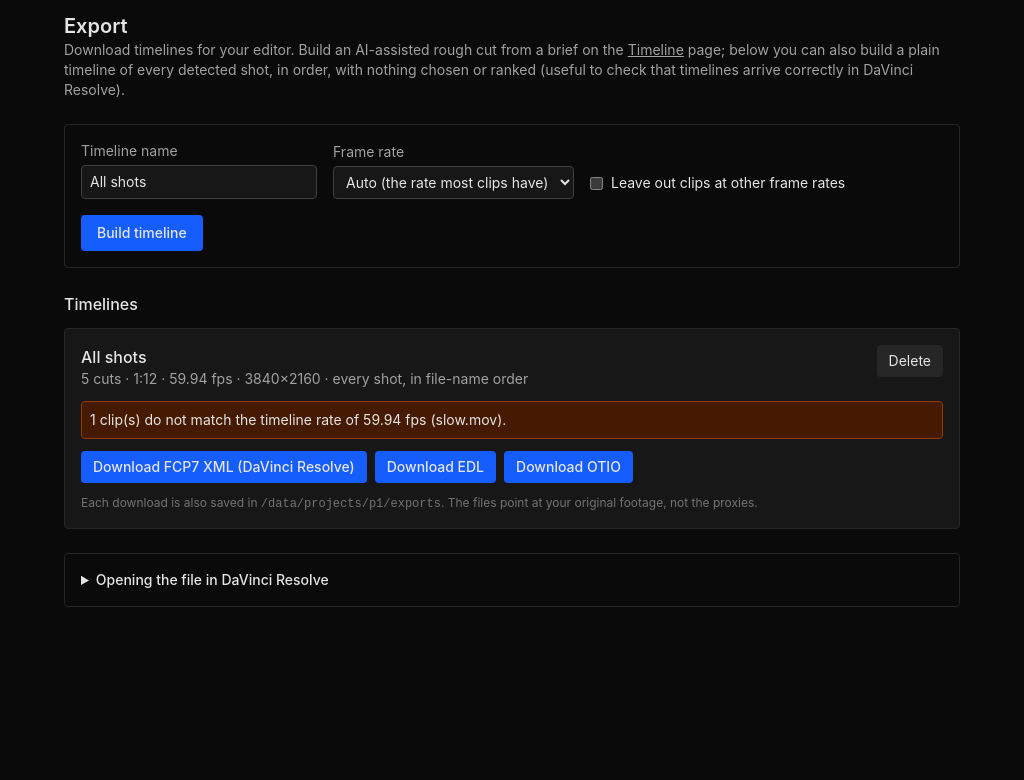
downloads an export as a file, and shows why when the backend refuses
Click the button "Download FCP7 XML (DaVinci Resolve)": (224, 467) [81,451,367,483]
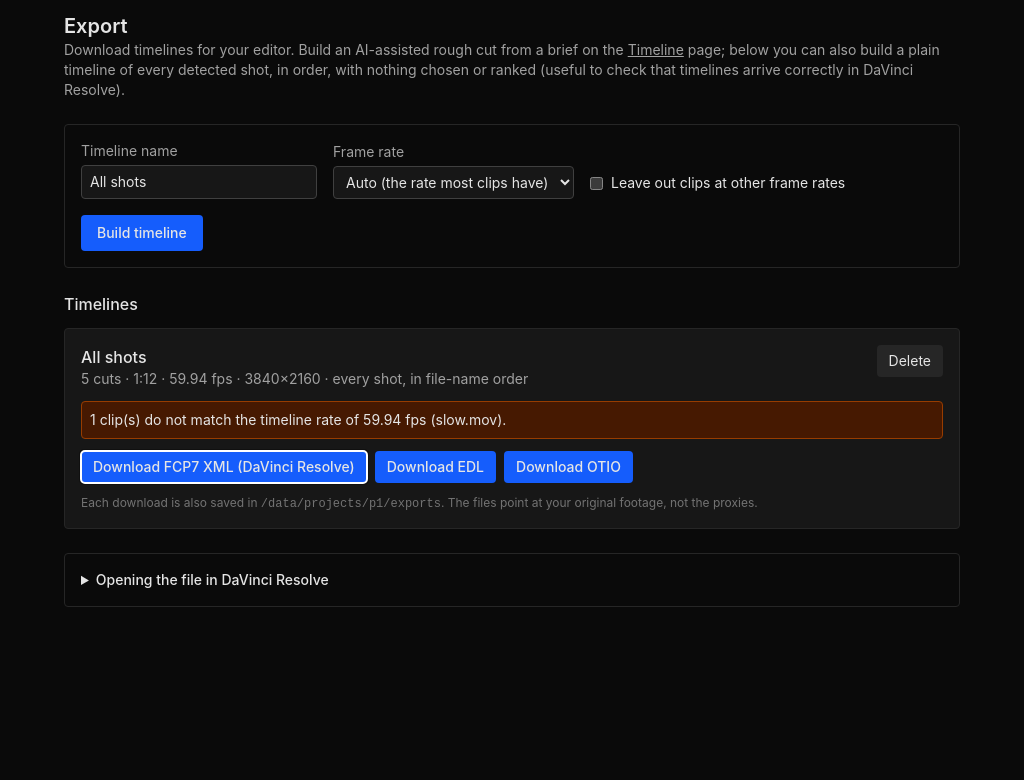
Click the button "Download EDL": (435, 467) [375,451,496,483]
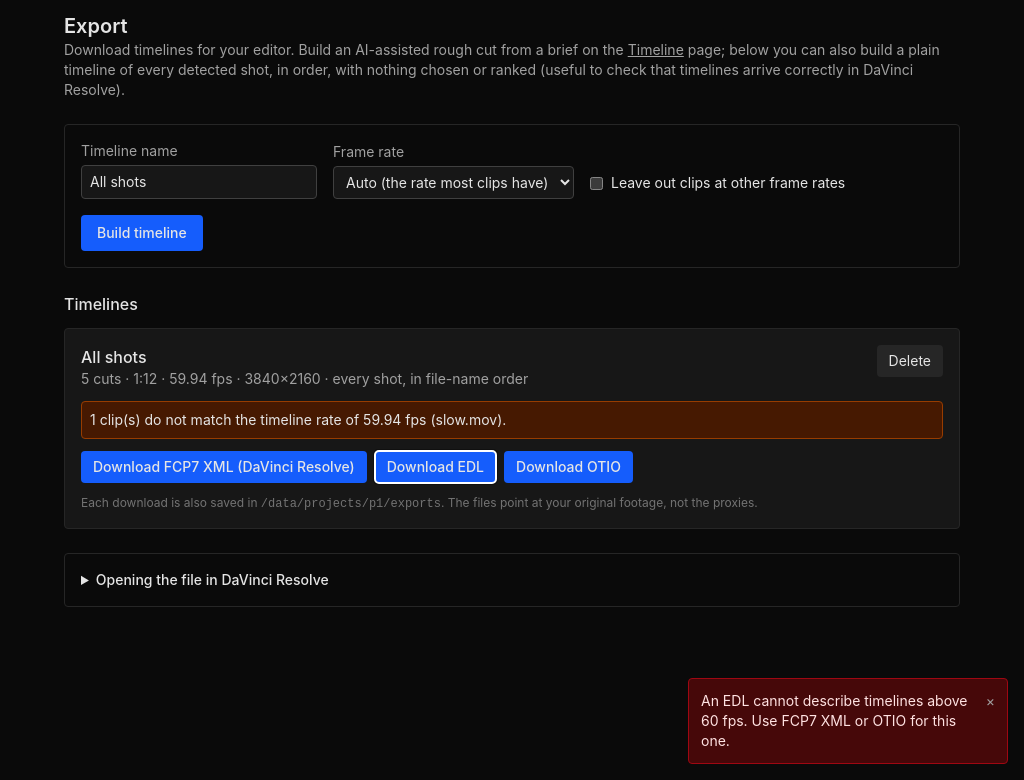
Now the text "An EDL cannot describe timelines above 60 fps. Use FCP7 XML or OTIO for this one." is shown, box [701,692,968,749]
